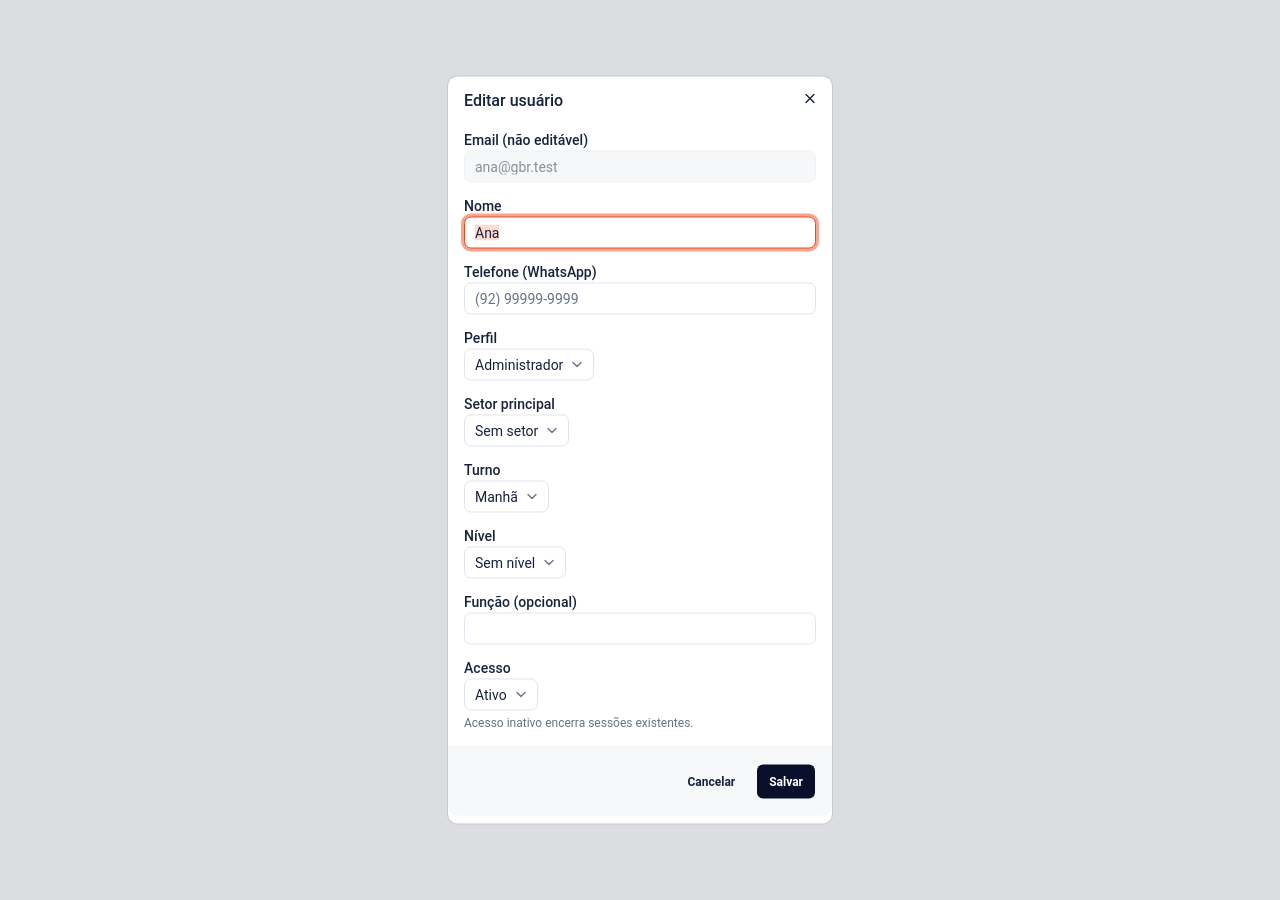
Test case: EditUserDialog shiftId › lists only active shifts
The image size is (1280, 900).
Step 1. Click the dropdown named "Turno" → coordinates (506, 496), box [464,480,549,512]
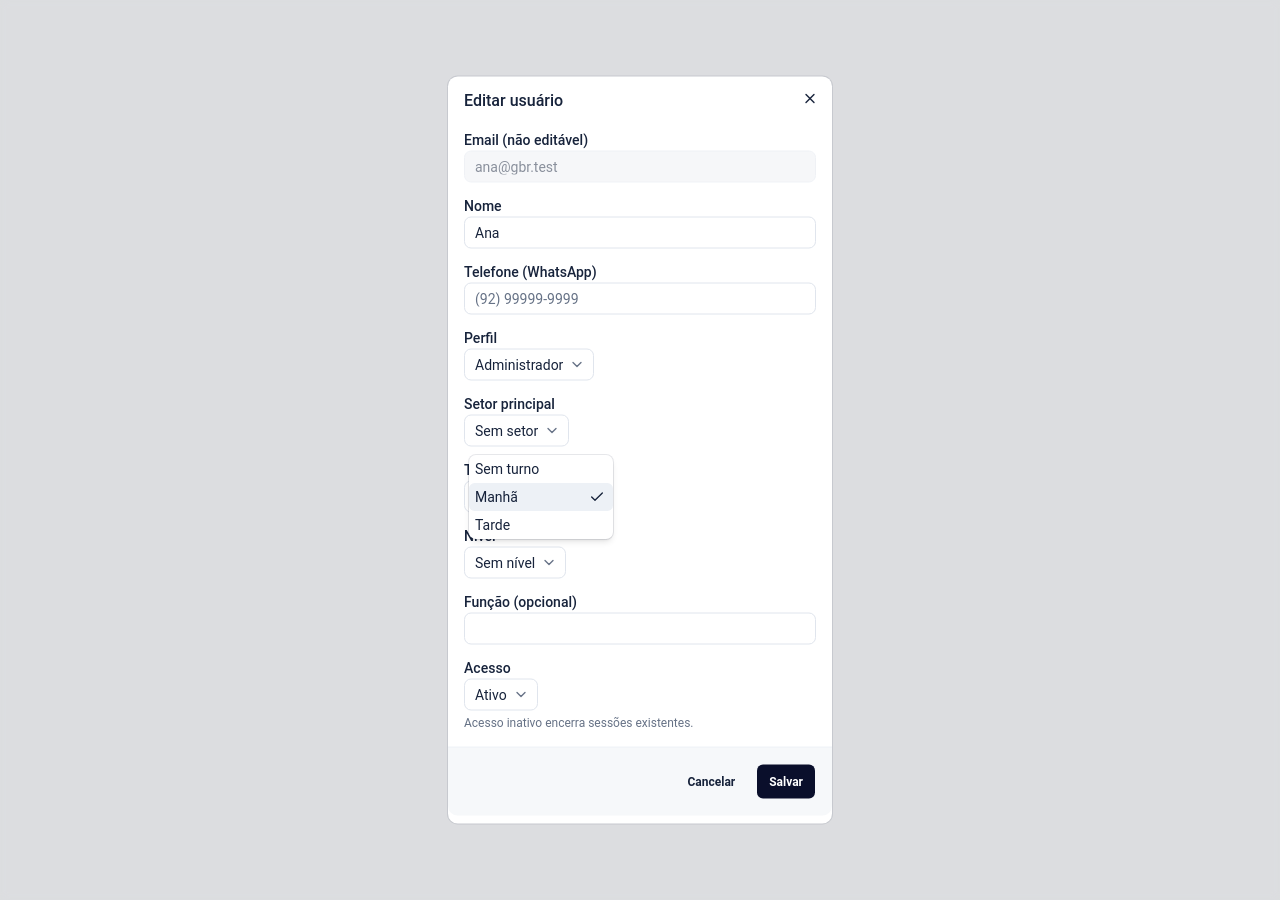
Result: the options read "Sem turno", "Manhã", "Tarde", in this order at [475,460,539,476]; [469,482,613,510]; [475,516,510,532]
